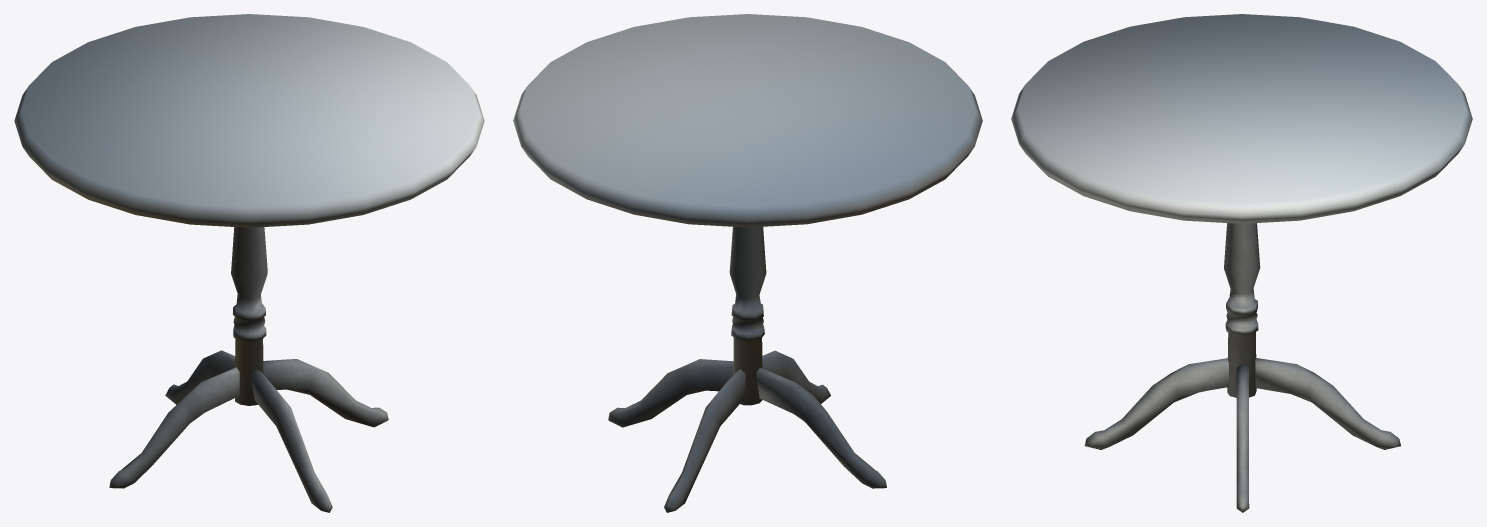
File: table.fbx
3 views of the same model, side by side, from view 1: azimuth 30°, elevation 25°; view 2: azimuth 150°, elevation 25°; view 3: azimuth 270°, elevation 25° (orthographic).
Visible parts, largest first — view 1: table; view 2: table; view 3: table.
Boxes of the visible parts, x1,y1,x2,y2 form: table: (14,14,484,512); table: (513,14,982,512); table: (1011,14,1472,512).
Bounding box in the file's own units: 0.6024 × 0.7381 × 0.7381.
